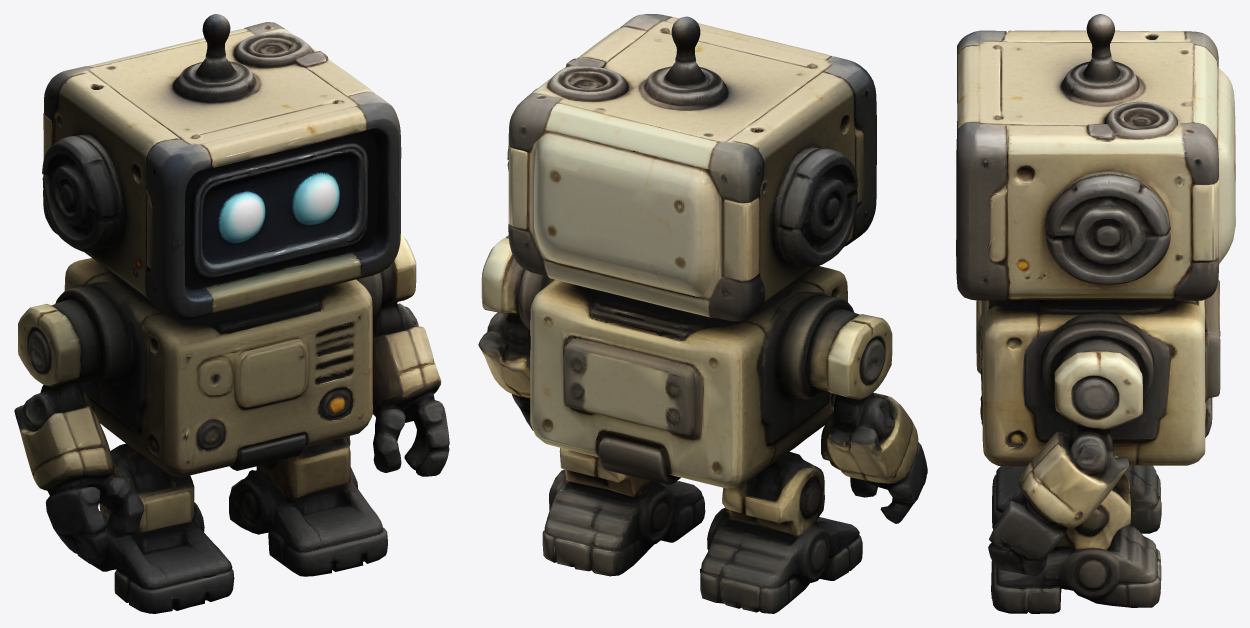
The model's file is https___storage_googleapis_com_ai_services_quality_jobs_h0qce_input_png (1).glb.
3 views of the same model, side by side, from view 1: azimuth 30°, elevation 25°; view 2: azimuth 150°, elevation 25°; view 3: azimuth 270°, elevation 25° (orthographic). The views are drawn at different scales.
Parts seen in each view (by area): view 1: Robot; view 2: Robot; view 3: Robot.
Boxes of the visible parts, x1=… form: Robot: x1=14, y1=14, x2=449, y2=613; Robot: x1=478, y1=14, x2=927, y2=613; Robot: x1=956, y1=14, x2=1235, y2=613.
Bounding box in the file's own units: 0.1912 × 0.2498 × 0.1175.
1 material, 1 textured.
